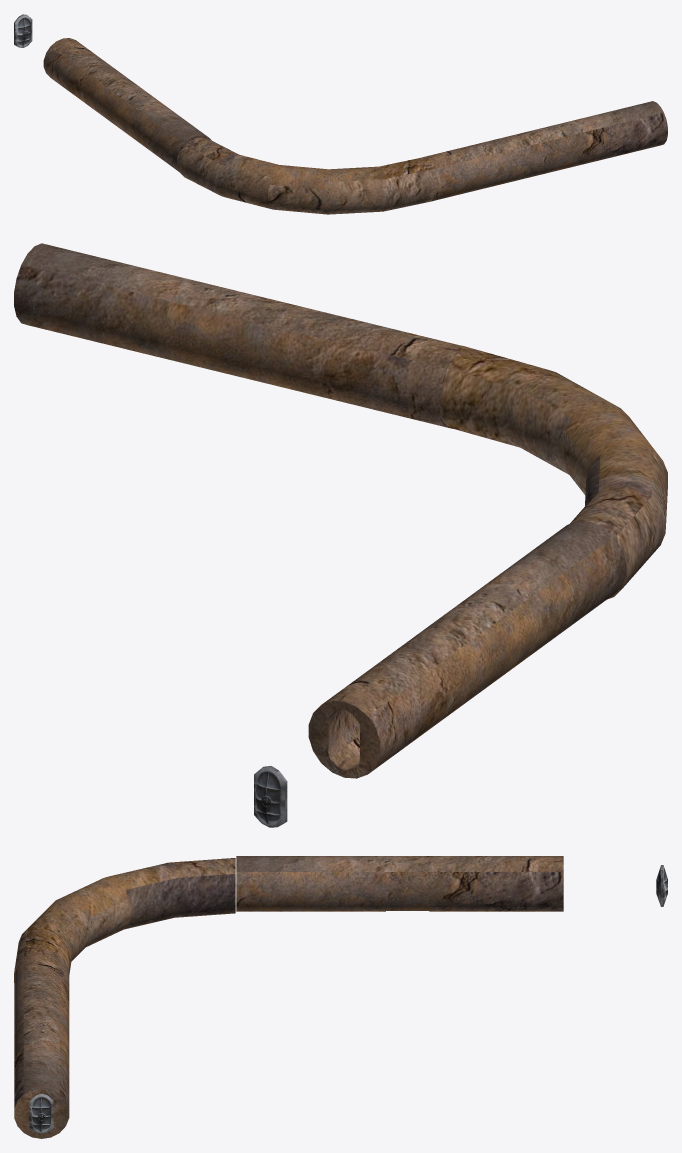
Rendered from room3.FBX.
3 views of the same model, one above another, from view 1: azimuth 30°, elevation 25°; view 2: azimuth 150°, elevation 25°; view 3: azimuth 270°, elevation 25° (orthographic). The views are drawn at different scales.
Visible parts, largest first — view 1: Tube002, Tube003, Box003, Box002; view 2: Tube003, Box003, Tube002, Box002; view 3: Box003, Tube002, Tube003, Box001.
Part boxes in pixels (x1,y1,x2,y2): Tube002: [177, 137, 441, 214]; Tube003: [422, 101, 667, 200]; Box003: [43, 38, 211, 171]; Box002: [14, 14, 32, 47]; Tube003: [14, 243, 460, 428]; Box003: [308, 521, 626, 778]; Tube002: [440, 345, 667, 599]; Box002: [254, 766, 287, 827]; Box003: [236, 856, 563, 911]; Tube002: [14, 858, 235, 982]; Tube003: [14, 950, 69, 1138]; Box001: [29, 1093, 53, 1133].
Size of the model in its own units: 74.74 by 7.56 by 85.5.
Materials: 5 (5 with a texture image).
